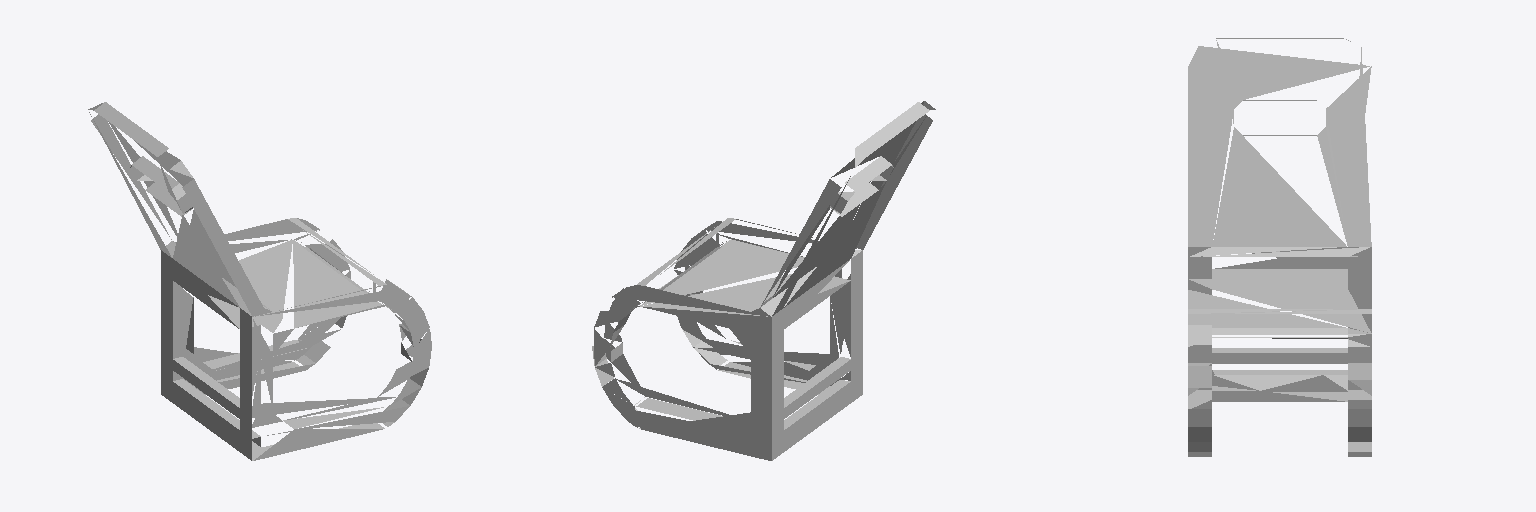
Rendered from chair_packed_reduced_1672692401.3403692.rr.obj.
The picture shows the model from 3 angles: view 1: azimuth 30°, elevation 25°; view 2: azimuth 150°, elevation 25°; view 3: azimuth 270°, elevation 25°; orthographic projection.
Parts seen in each view (by area): view 1: Mesh_0; view 2: Mesh_0; view 3: Mesh_0.
Part boxes in pixels (x1,y1,x2,y2): Mesh_0: (88,102,431,460); Mesh_0: (592,101,935,460); Mesh_0: (1188,38,1371,456).
Size of the model in its own units: 0.9998 by 1.17 by 0.61.